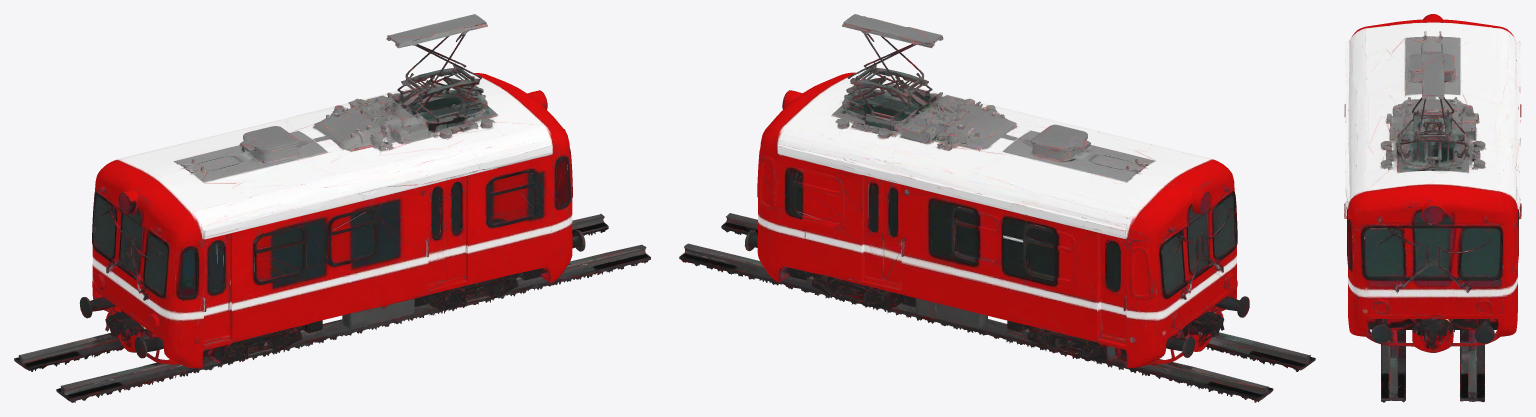
Rendered from rail_car.glb.
The picture shows the model from 3 angles, left to right: view 1: azimuth 30°, elevation 25°; view 2: azimuth 150°, elevation 25°; view 3: azimuth 270°, elevation 25°; orthographic projection. The views are drawn at different scales.
Bounding box in the file's own units: 1.9 × 0.8122 × 0.533.
1 material, 1 textured.
